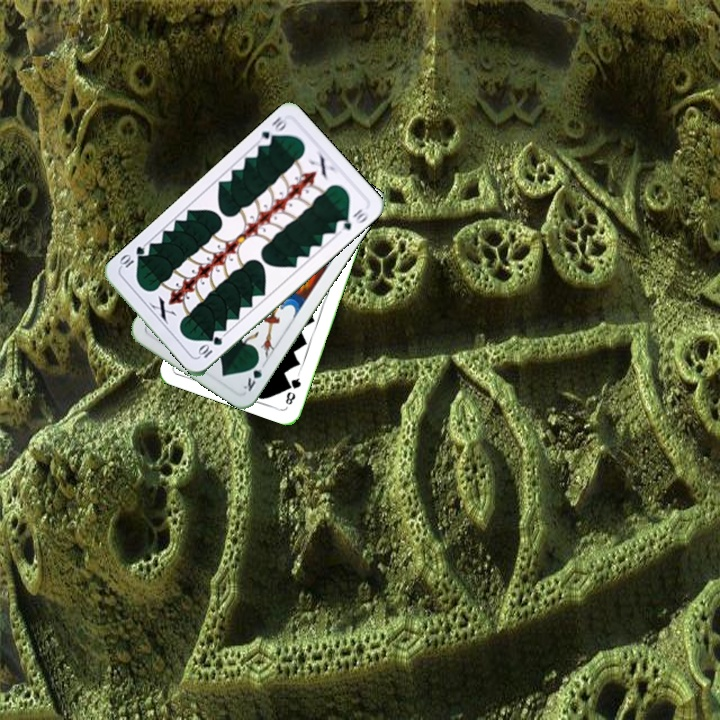G10: (257, 112, 289, 149), (194, 332, 225, 361)
G8: (281, 370, 304, 407)
GK: (239, 356, 268, 394)
